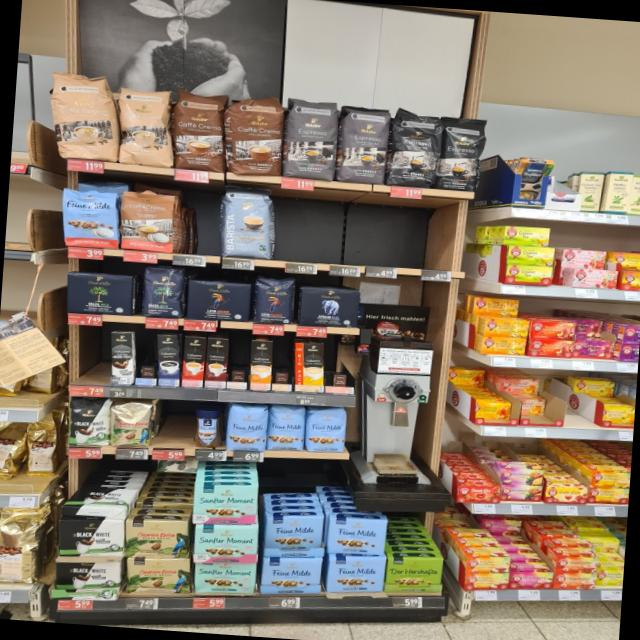AB Gemahlen: (298, 284, 362, 328)
BM Bohne: (139, 264, 185, 318)
BM Gemahlen: (65, 272, 136, 316)
BW Bohne: (64, 400, 112, 447)
BW Gemahlen: (57, 516, 125, 560), (52, 560, 120, 595)
Barista CC: (216, 187, 278, 259)
CC Mild: (44, 68, 121, 162), (114, 85, 177, 169)
CC Vollmundig: (119, 190, 178, 254)
CC Vollmundig 36 Pads: (224, 90, 286, 176), (170, 86, 230, 172)
Colombia BB Bohne: (109, 402, 152, 448)
Colombia BB Gemahlen: (122, 518, 192, 560), (123, 555, 191, 596)
Empty Shelf: (279, 190, 462, 270), (175, 190, 223, 256), (68, 325, 112, 384), (154, 402, 195, 449), (326, 342, 358, 386), (133, 332, 158, 378), (227, 338, 251, 382), (272, 339, 295, 384)
Espresso Aromatisch: (282, 90, 342, 180), (336, 102, 392, 184)
Espresso Kraftig: (437, 114, 487, 190)
Espresso S Art: (387, 106, 442, 187)
FM 36 Pads: (59, 183, 121, 247)
FM Bohne: (227, 402, 270, 452), (306, 406, 348, 454), (266, 404, 306, 452)
FM Gemahlen: (259, 554, 323, 597), (324, 514, 388, 556), (327, 553, 388, 593), (266, 512, 323, 552)
FM Instant: (192, 406, 224, 450)
Herzhatfe Mundig: (384, 554, 444, 594)
LG Bohne: (252, 276, 296, 324)
LG Gemahlen: (186, 279, 252, 322)
SM Gemahlen: (192, 480, 260, 526), (192, 521, 260, 566), (193, 560, 257, 596)
Simo CCMild bigpack: (292, 341, 326, 393)
Simo CCVollmundig bigpack: (248, 340, 274, 390)
Simo Es Brazil: (181, 336, 206, 388)
Simo Es Caramel: (205, 337, 229, 388)
Simo Es Elegant: (110, 332, 133, 384)
Simo Es Kraft: (157, 333, 180, 386)
